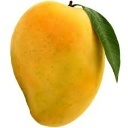mango: (11, 1, 106, 127)
